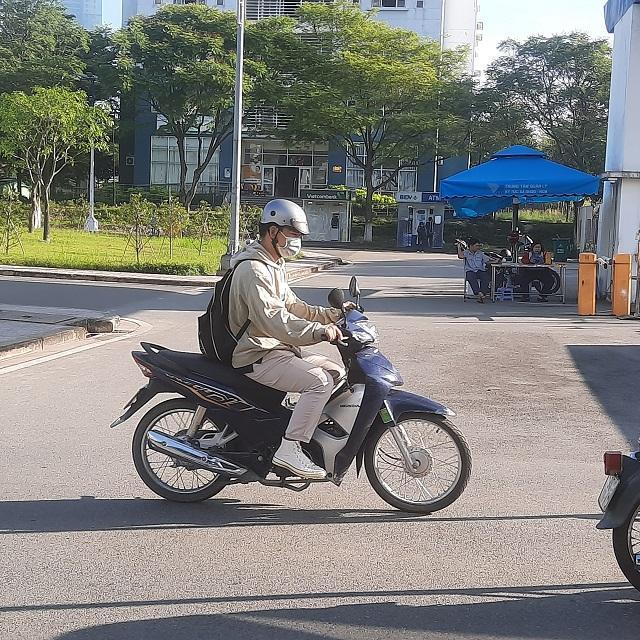Helmet: (260, 196, 308, 258)
